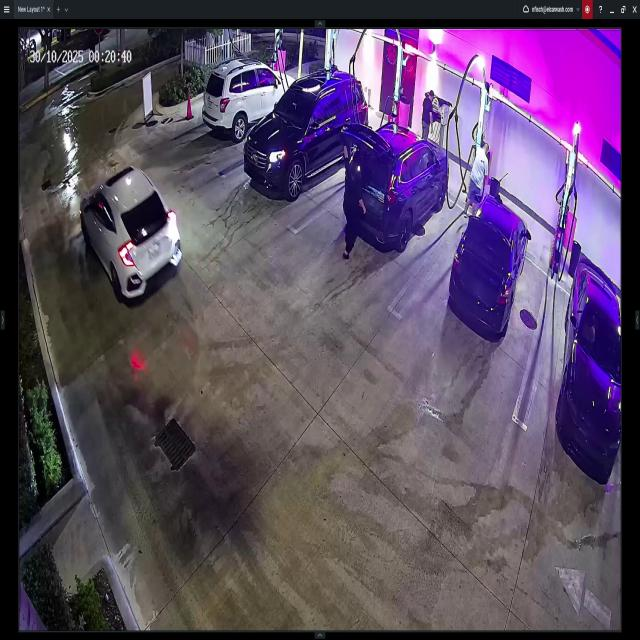Car: (242, 75, 366, 206), (559, 259, 623, 483), (344, 118, 446, 248), (85, 173, 183, 299), (449, 195, 530, 341), (202, 61, 302, 141)
